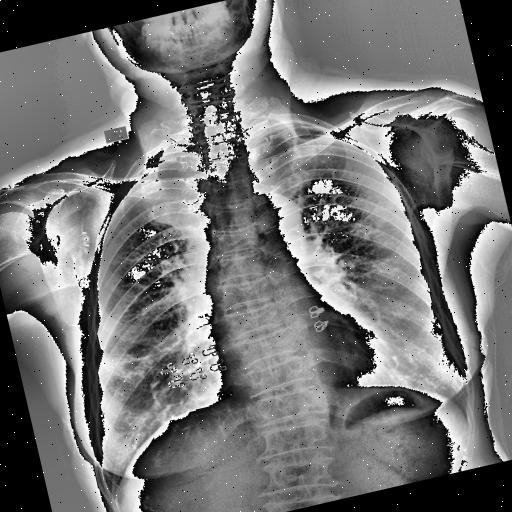0- Aortic enlargement: (238, 184, 310, 266), (250, 186, 307, 246), (248, 187, 306, 245)
13- Pulmonary fibrosis: (122, 351, 154, 367)
